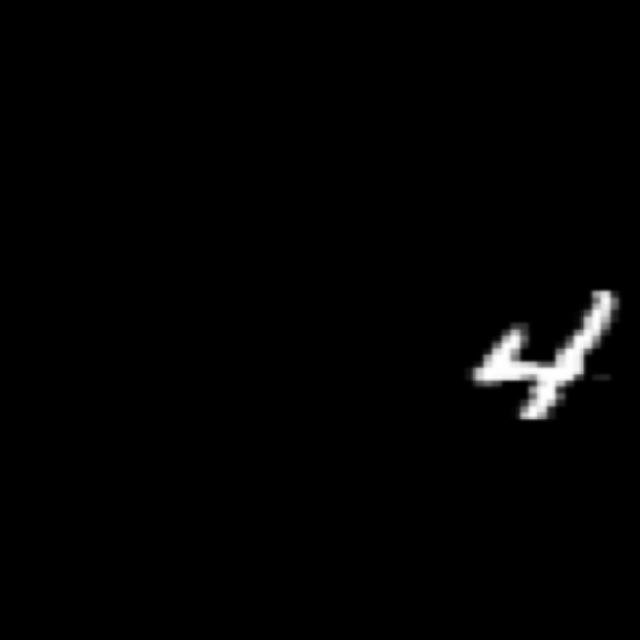four -4-: (458, 276, 636, 442)
